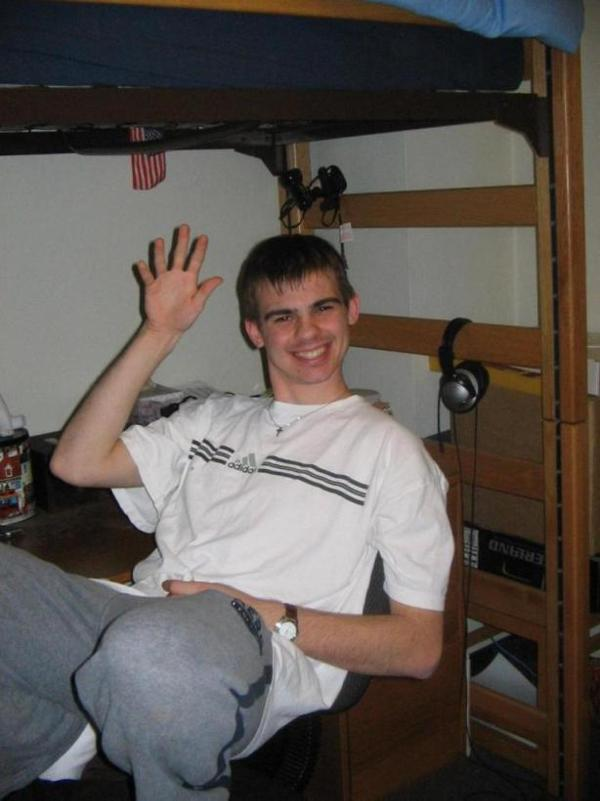person: (1, 222, 454, 801)
